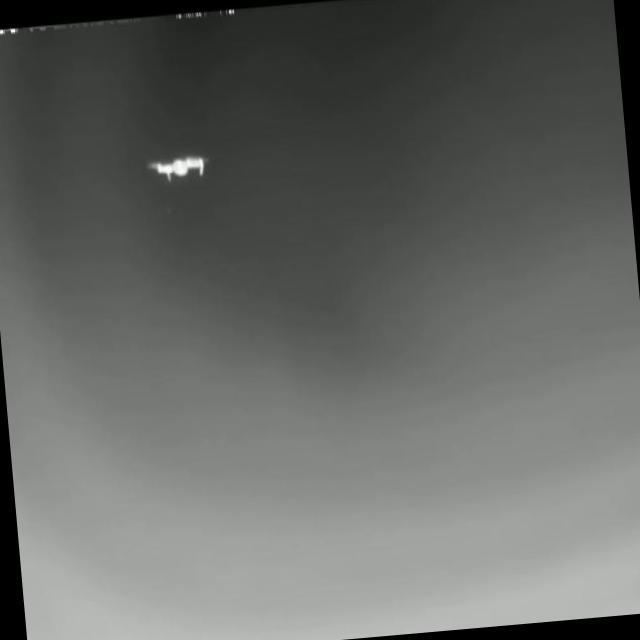DRONE: (142, 152, 210, 183)
